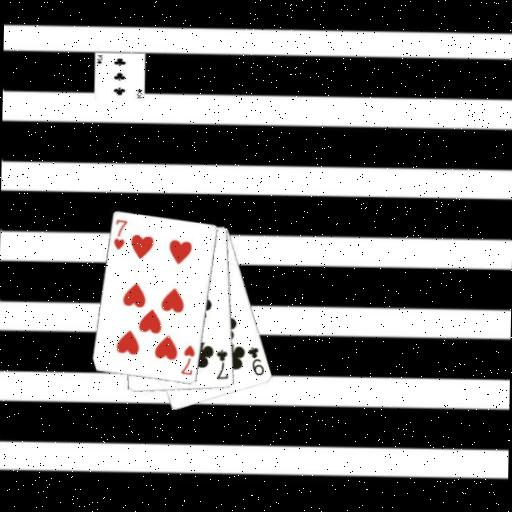7C: (213, 347, 230, 382)
7H: (111, 217, 130, 252), (178, 343, 197, 377)
9C: (245, 344, 267, 378)
